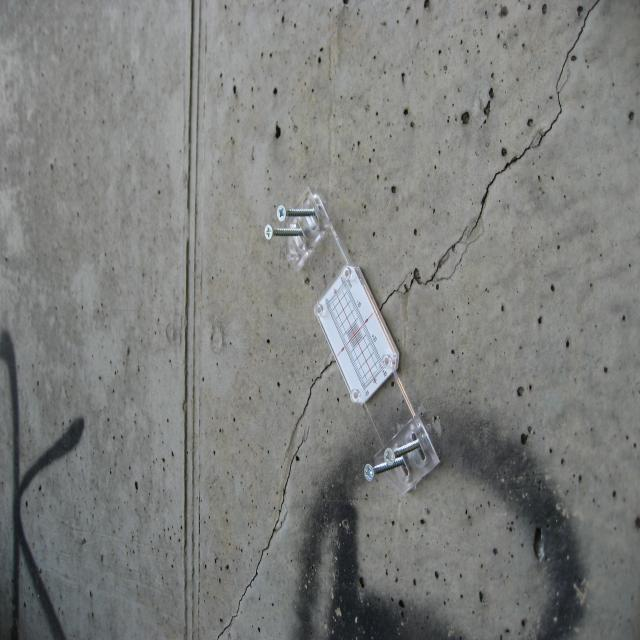diagonal crack: (379, 0, 601, 312), (216, 358, 337, 640)
